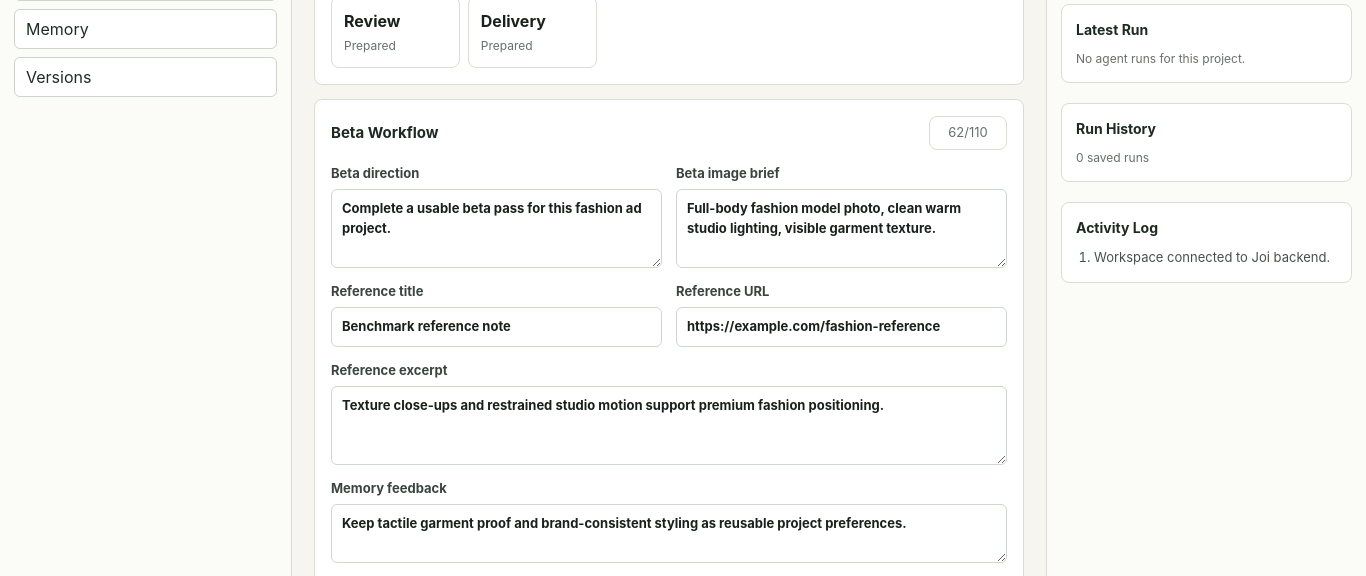
Joi workspace shell › shows and runs the beta workflow from overview
The width and height of the screenshot is (1366, 576).
(page scrolled)
Expected: the heading "Beta Workflow" is shown, x1=331 y1=122 x2=438 y2=144
Replace the text in the text box labelled "Beta direction" with "Complete the beta benchmark.": point(496, 228) x1=331 y1=189 x2=662 y2=268
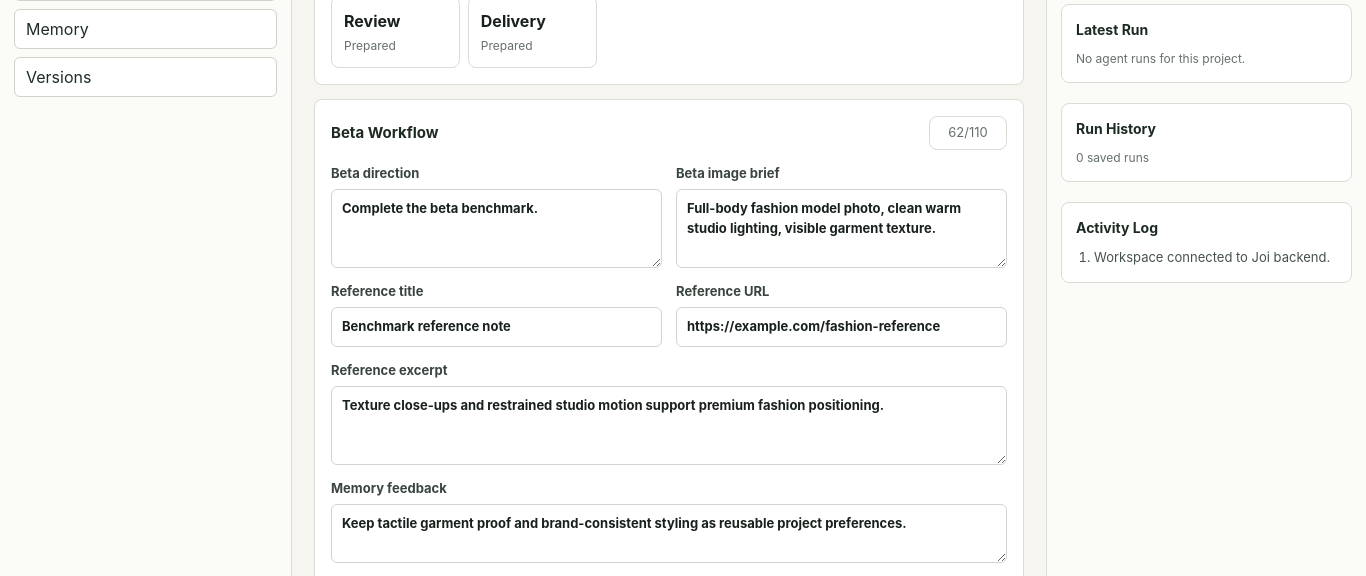
Replace the text in the text box labelled "Beta image brief" with "Full-body model photo, warm studio.": point(842, 228) x1=676 y1=189 x2=1007 y2=268
(page scrolled)
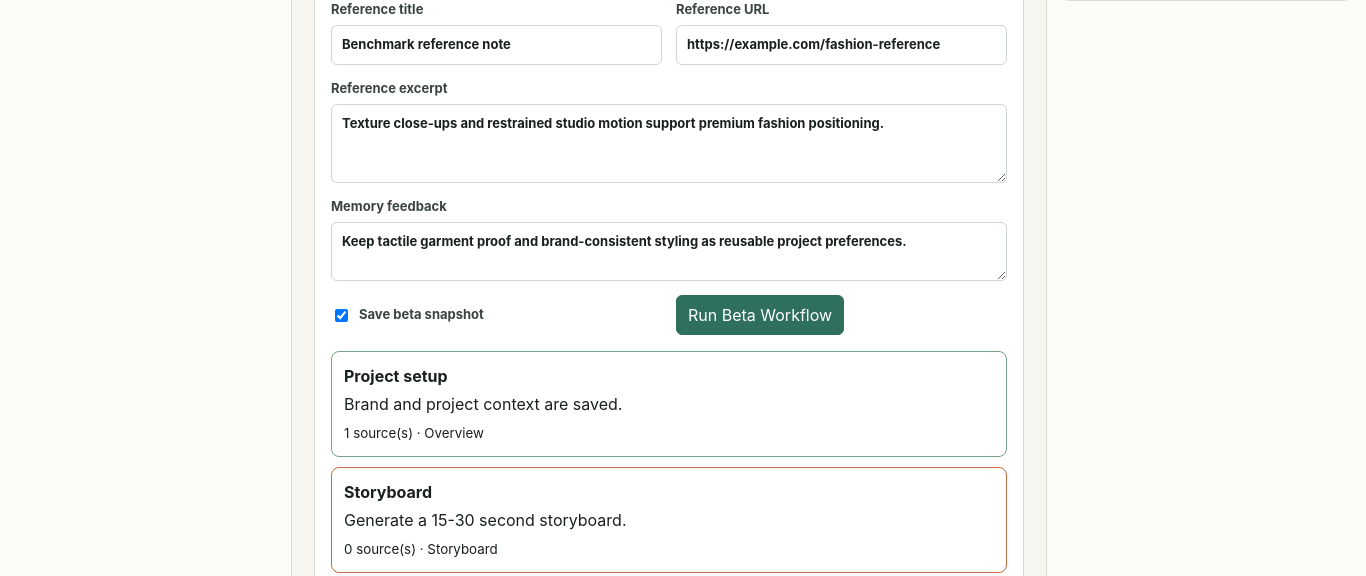
Click the button "Run Beta Workflow": point(760, 315) x1=676 y1=295 x2=844 y2=335
(page scrolled)
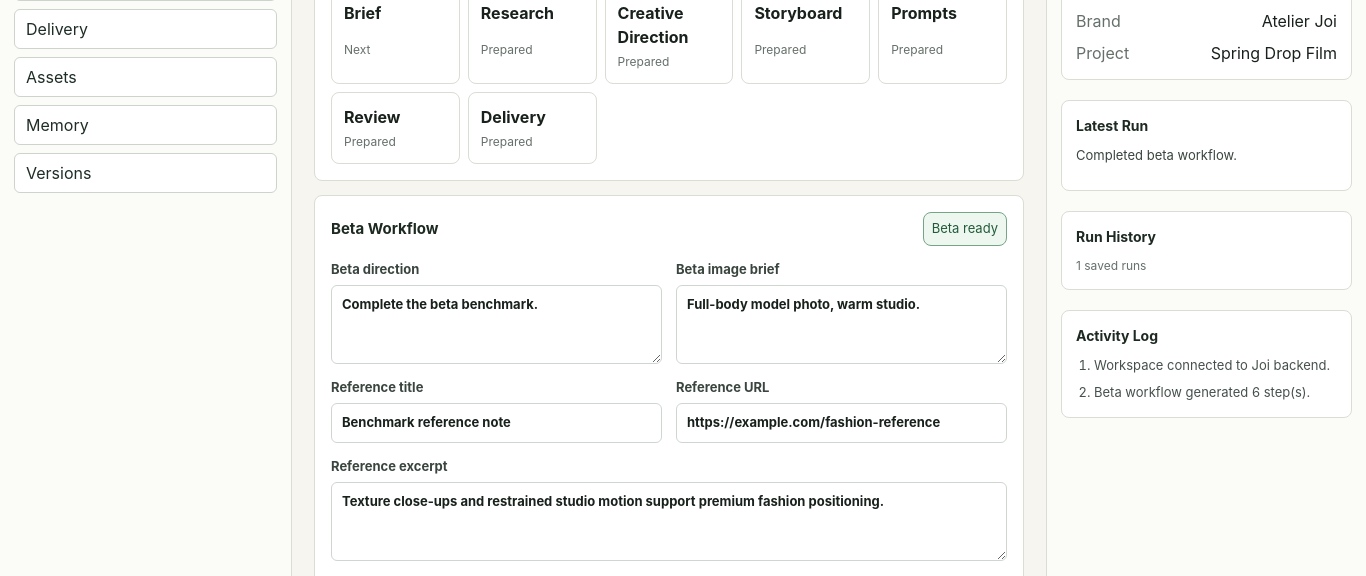
Now the text "Beta ready" is shown, box x1=923 y1=212 x2=1007 y2=246
